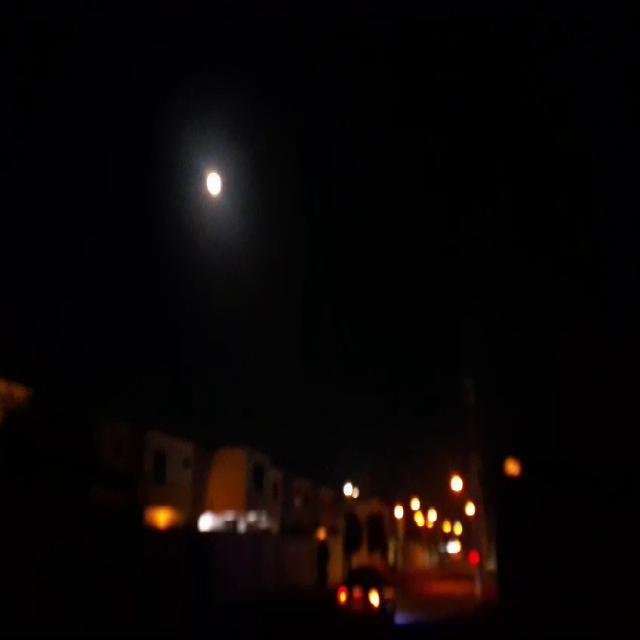moon: (201, 164, 221, 198)
